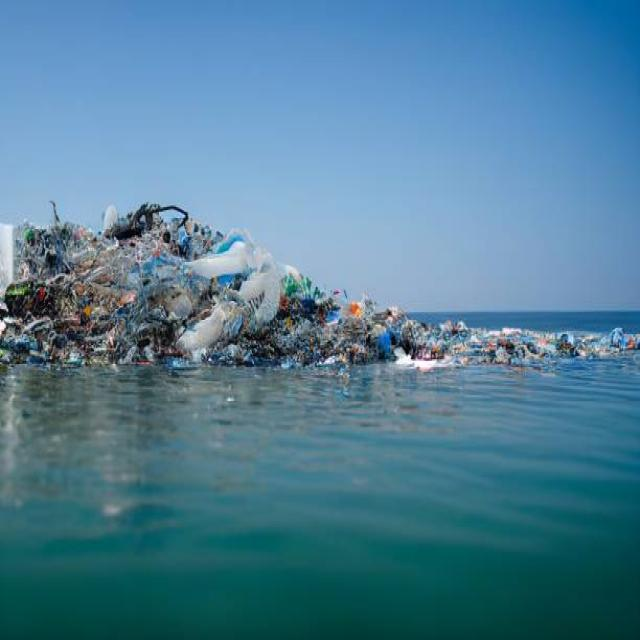plastic: (15, 221, 528, 337)
